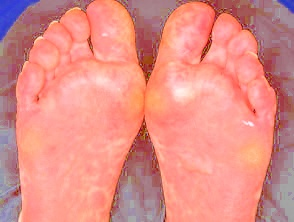SJS-TEN: (134, 0, 288, 222), (14, 2, 149, 222)
